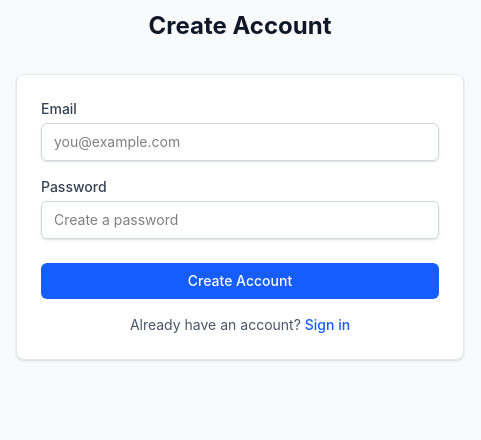
Test: RegisterPage › shows an error banner on 400 validation error
Type "a@b.com" into the field labelled "Email" at [240, 142], box x1=41 y1=123 x2=439 y2=161
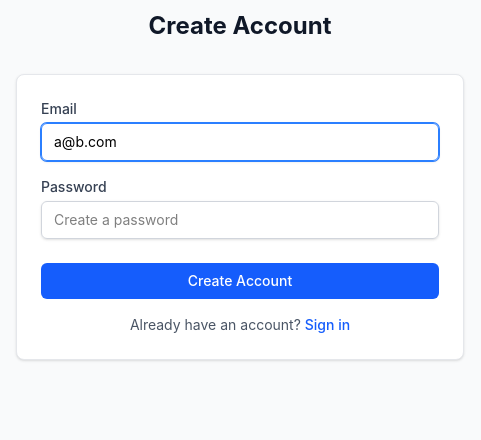
Type "short" into the password field labelled "Password" at [240, 220], box x1=41 y1=201 x2=439 y2=239
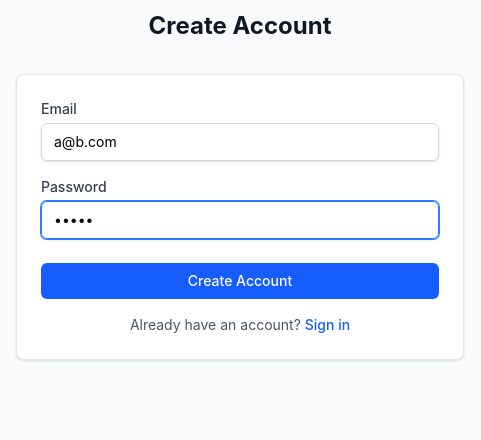
Click the button "Create Account" at [240, 281], box x1=41 y1=263 x2=439 y2=299
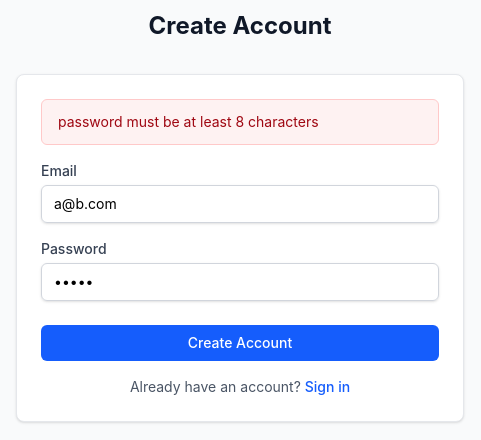
Expected: the text "password must be at least 8 characters" is shown, x1=41 y1=99 x2=439 y2=145
